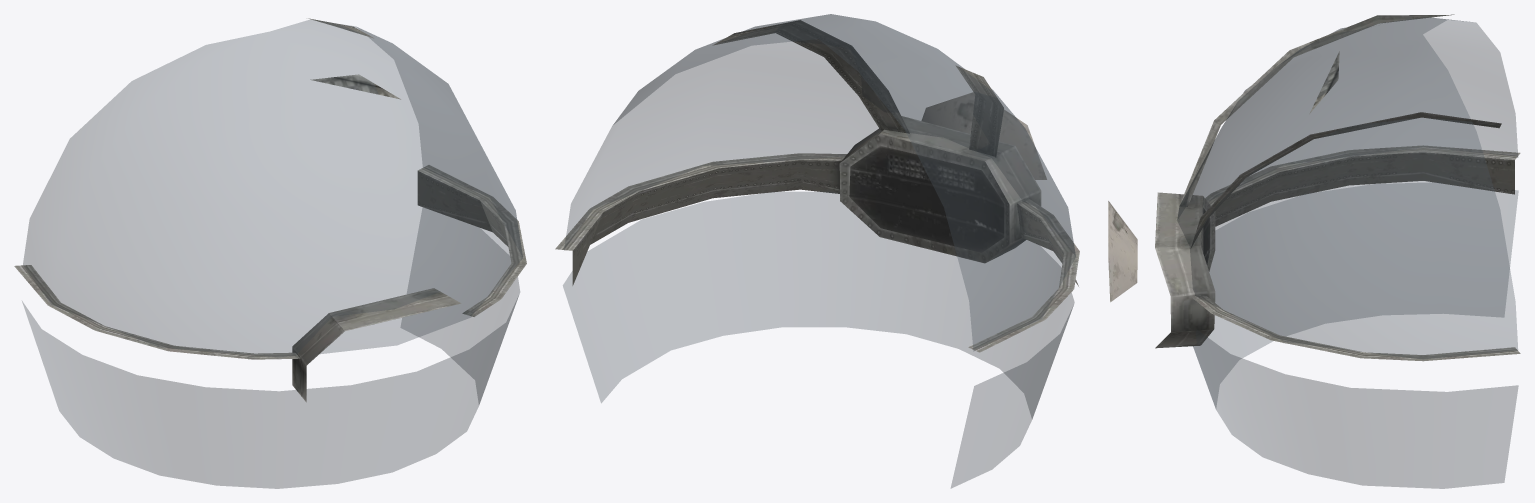
Rendered from laatcockpit.lod1.glb.
3 views of the same model, side by side, from view 1: azimuth 30°, elevation 25°; view 2: azimuth 150°, elevation 25°; view 3: azimuth 270°, elevation 25° (orthographic). The views are drawn at different scales.
Bounding box in the file's own units: 1.72 × 1.36 × 1.39.
Materials: 2 (1 with a texture image).
